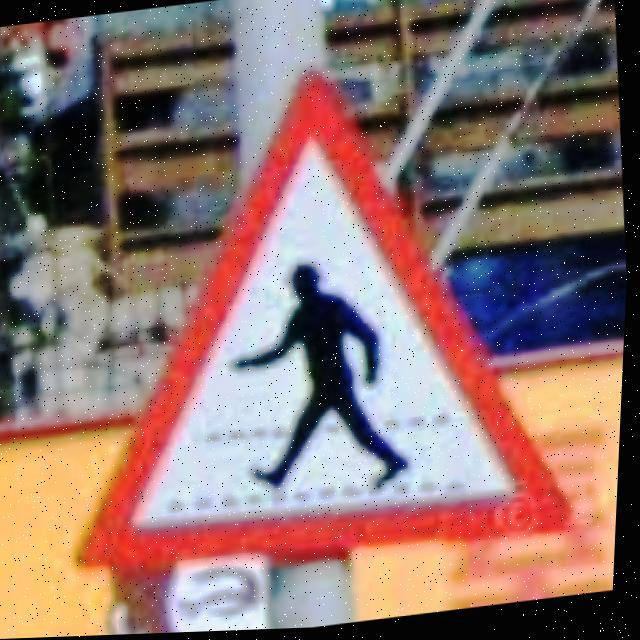pedestriancross: (77, 65, 580, 573)
